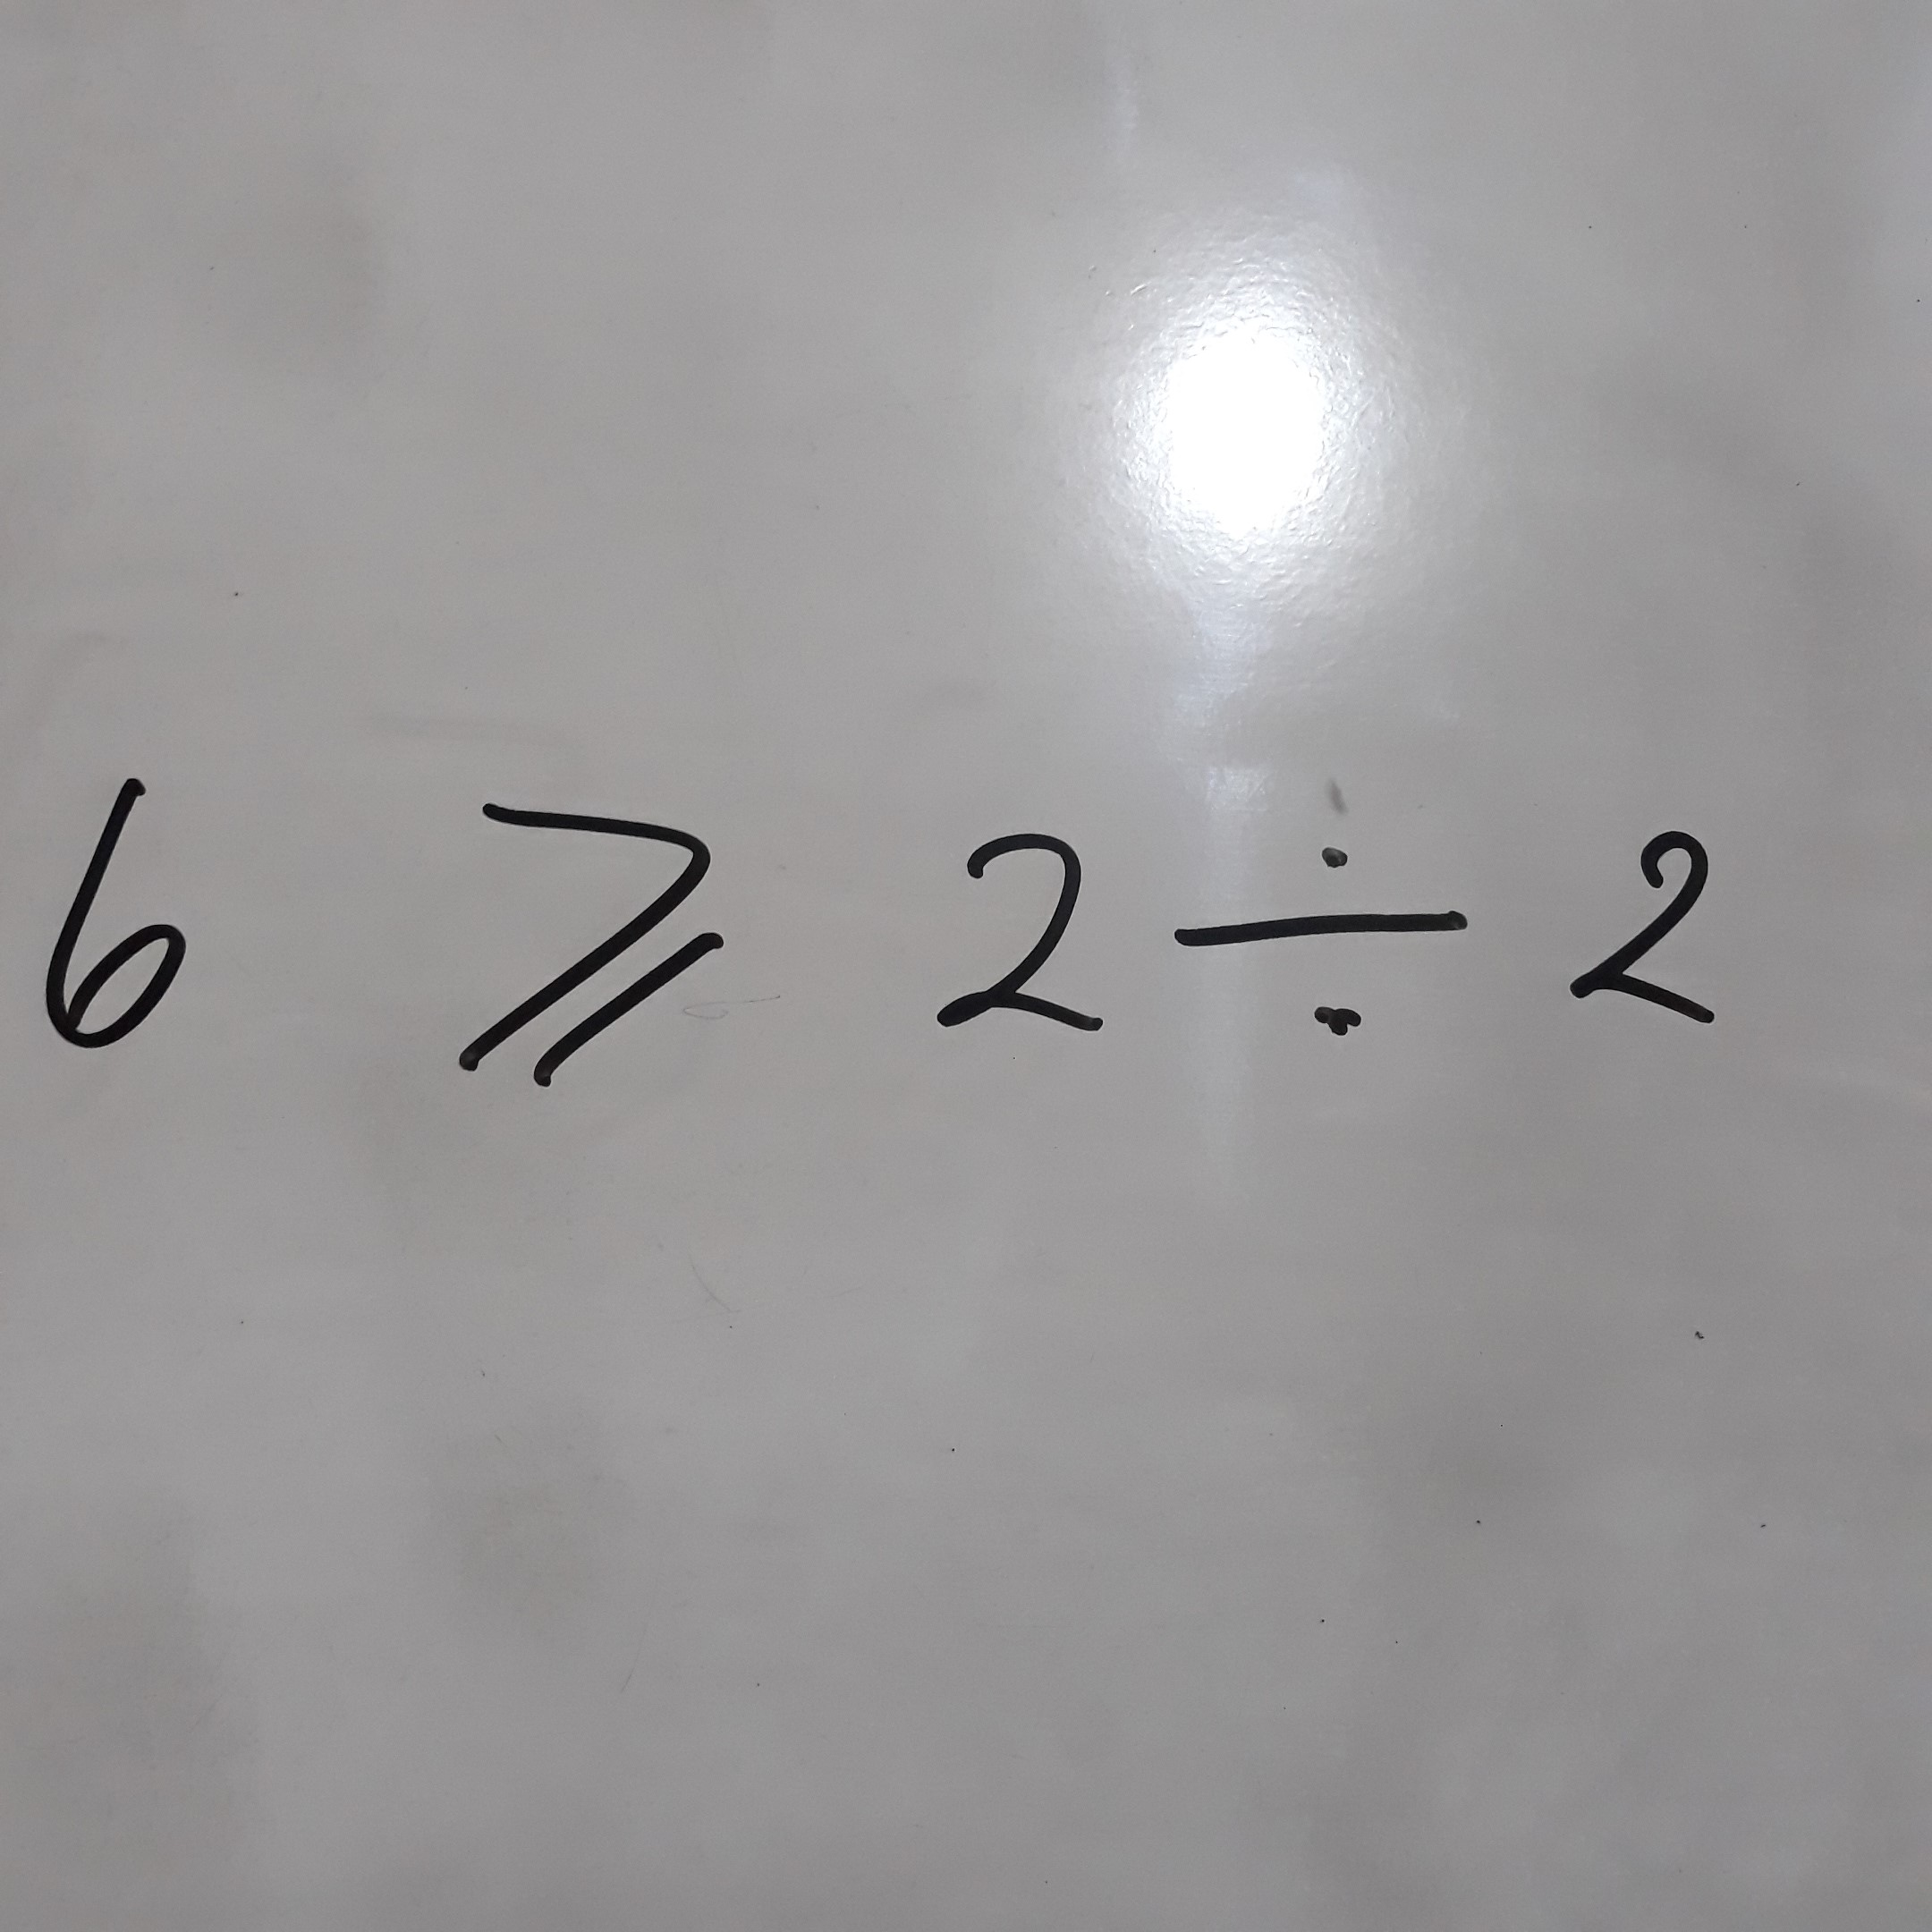div: (1160, 797, 1495, 1055)
morethan-equal: (436, 772, 760, 1102)
num2: (908, 813, 1128, 1063), (1542, 803, 1746, 1037)
num6: (17, 746, 230, 1074)
